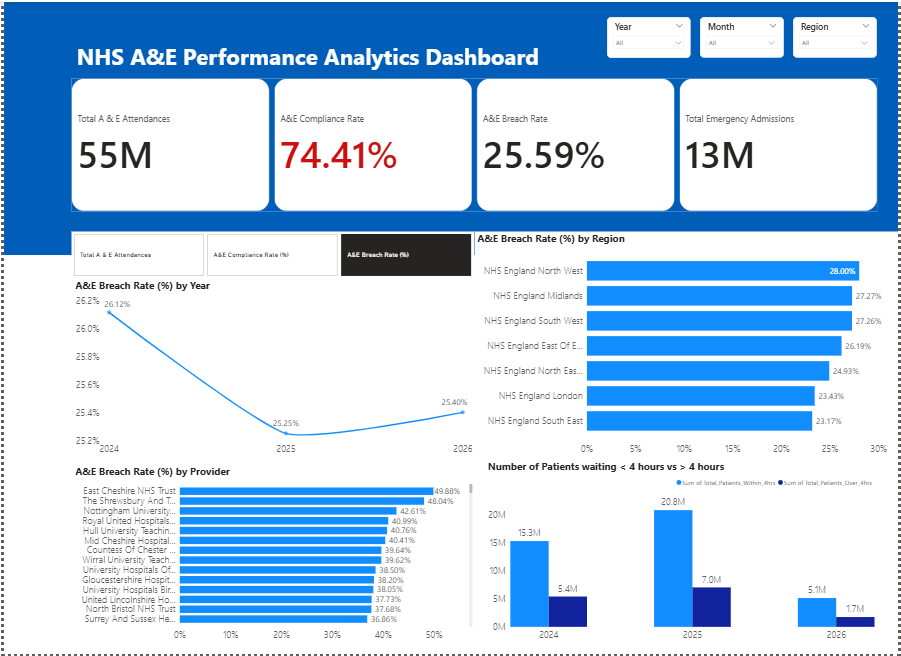

The dashboard page shown, as its layout file describes it:
{"tool":"powerbi","page":{"name":"Page 1","canvas":[1920,1400],"ordinal":0},"visuals":[{"type":"shape","box":[0,0,1920.5,543.6],"z":0},{"type":"slicer","fields":{"Values":["DateTable.Year"]},"box":[1295,32.5,179,88],"z":1000},{"type":"slicer","fields":{"Values":["DateTable.Month"]},"box":[1495,32.5,180,87.5],"z":2000},{"type":"slicer","fields":{"Values":["NHS_Data.Region"]},"box":[1695,32.5,180,87.5],"z":3000},{"type":"cardVisual","fields":{"Data":["DAX Measures.Total A & E Attendances","DAX Measures.% Seen in 4 hours","DAX Measures.% Seen after 4 hours","DAX Measures.Total Emergency Admissions"]},"box":[145,165,1730,285],"z":4000},{"type":"lineChart","fields":{"Y":["DAX Measures.% Seen after 4 hours"],"Category":["DateTable.Year"]},"box":[147.5,592.5,862.5,390],"z":5000},{"type":"advancedSlicerVisual","fields":{"Values":["Parameter.Parameter"]},"box":[145,492.5,865,100],"z":6000},{"type":"clusteredBarChart","fields":{"Y":["DAX Measures.% Seen after 4 hours"],"Category":["NHS_Data.Provider"]},"box":[148,993,863,390],"z":7000},{"type":"clusteredColumnChart","title":"Number of Patients waiting < 4 hours vs > 4 hours","fields":{"Y":["Sum(NHS_Data.Total_Patients_Within_4hrs)","Sum(NHS_Data.Total_Patients_Over_4hrs)"],"Category":["DateTable.Year"]},"box":[1035,982.5,840,400],"z":8000},{"type":"textbox","box":[150,76.7,1123.3,83.3],"z":9000},{"type":"clusteredBarChart","fields":{"Y":["DAX Measures.% Seen after 4 hours"],"Category":["NHS_Data.Region"]},"box":[1010,493.3,910,490],"z":10000}]}

Visuals, with their boxes in screenshot pixels (x1, y1, x2, y2), scaled from the page's 1920x1400 canvas onto the 901x656 screenshot:
shape: <region>0, 0, 900, 255</region>
slicer - DateTable.Year: <region>608, 15, 692, 56</region>
slicer - DateTable.Month: <region>702, 15, 786, 56</region>
slicer - NHS_Data.Region: <region>795, 15, 880, 56</region>
cardVisual - DAX Measures.Total A & E Attendances x DAX Measures.% Seen in 4 hours: <region>68, 77, 880, 211</region>
lineChart - DAX Measures.% Seen after 4 hours x DateTable.Year: <region>69, 278, 474, 460</region>
advancedSlicerVisual - Parameter.Parameter: <region>68, 231, 474, 278</region>
clusteredBarChart - DAX Measures.% Seen after 4 hours x NHS_Data.Provider: <region>69, 465, 474, 648</region>
"Number of Patients waiting < 4 hours vs > 4 hours" clusteredColumnChart: <region>486, 460, 880, 648</region>
textbox: <region>70, 36, 598, 75</region>
clusteredBarChart - DAX Measures.% Seen after 4 hours x NHS_Data.Region: <region>474, 231, 900, 461</region>
